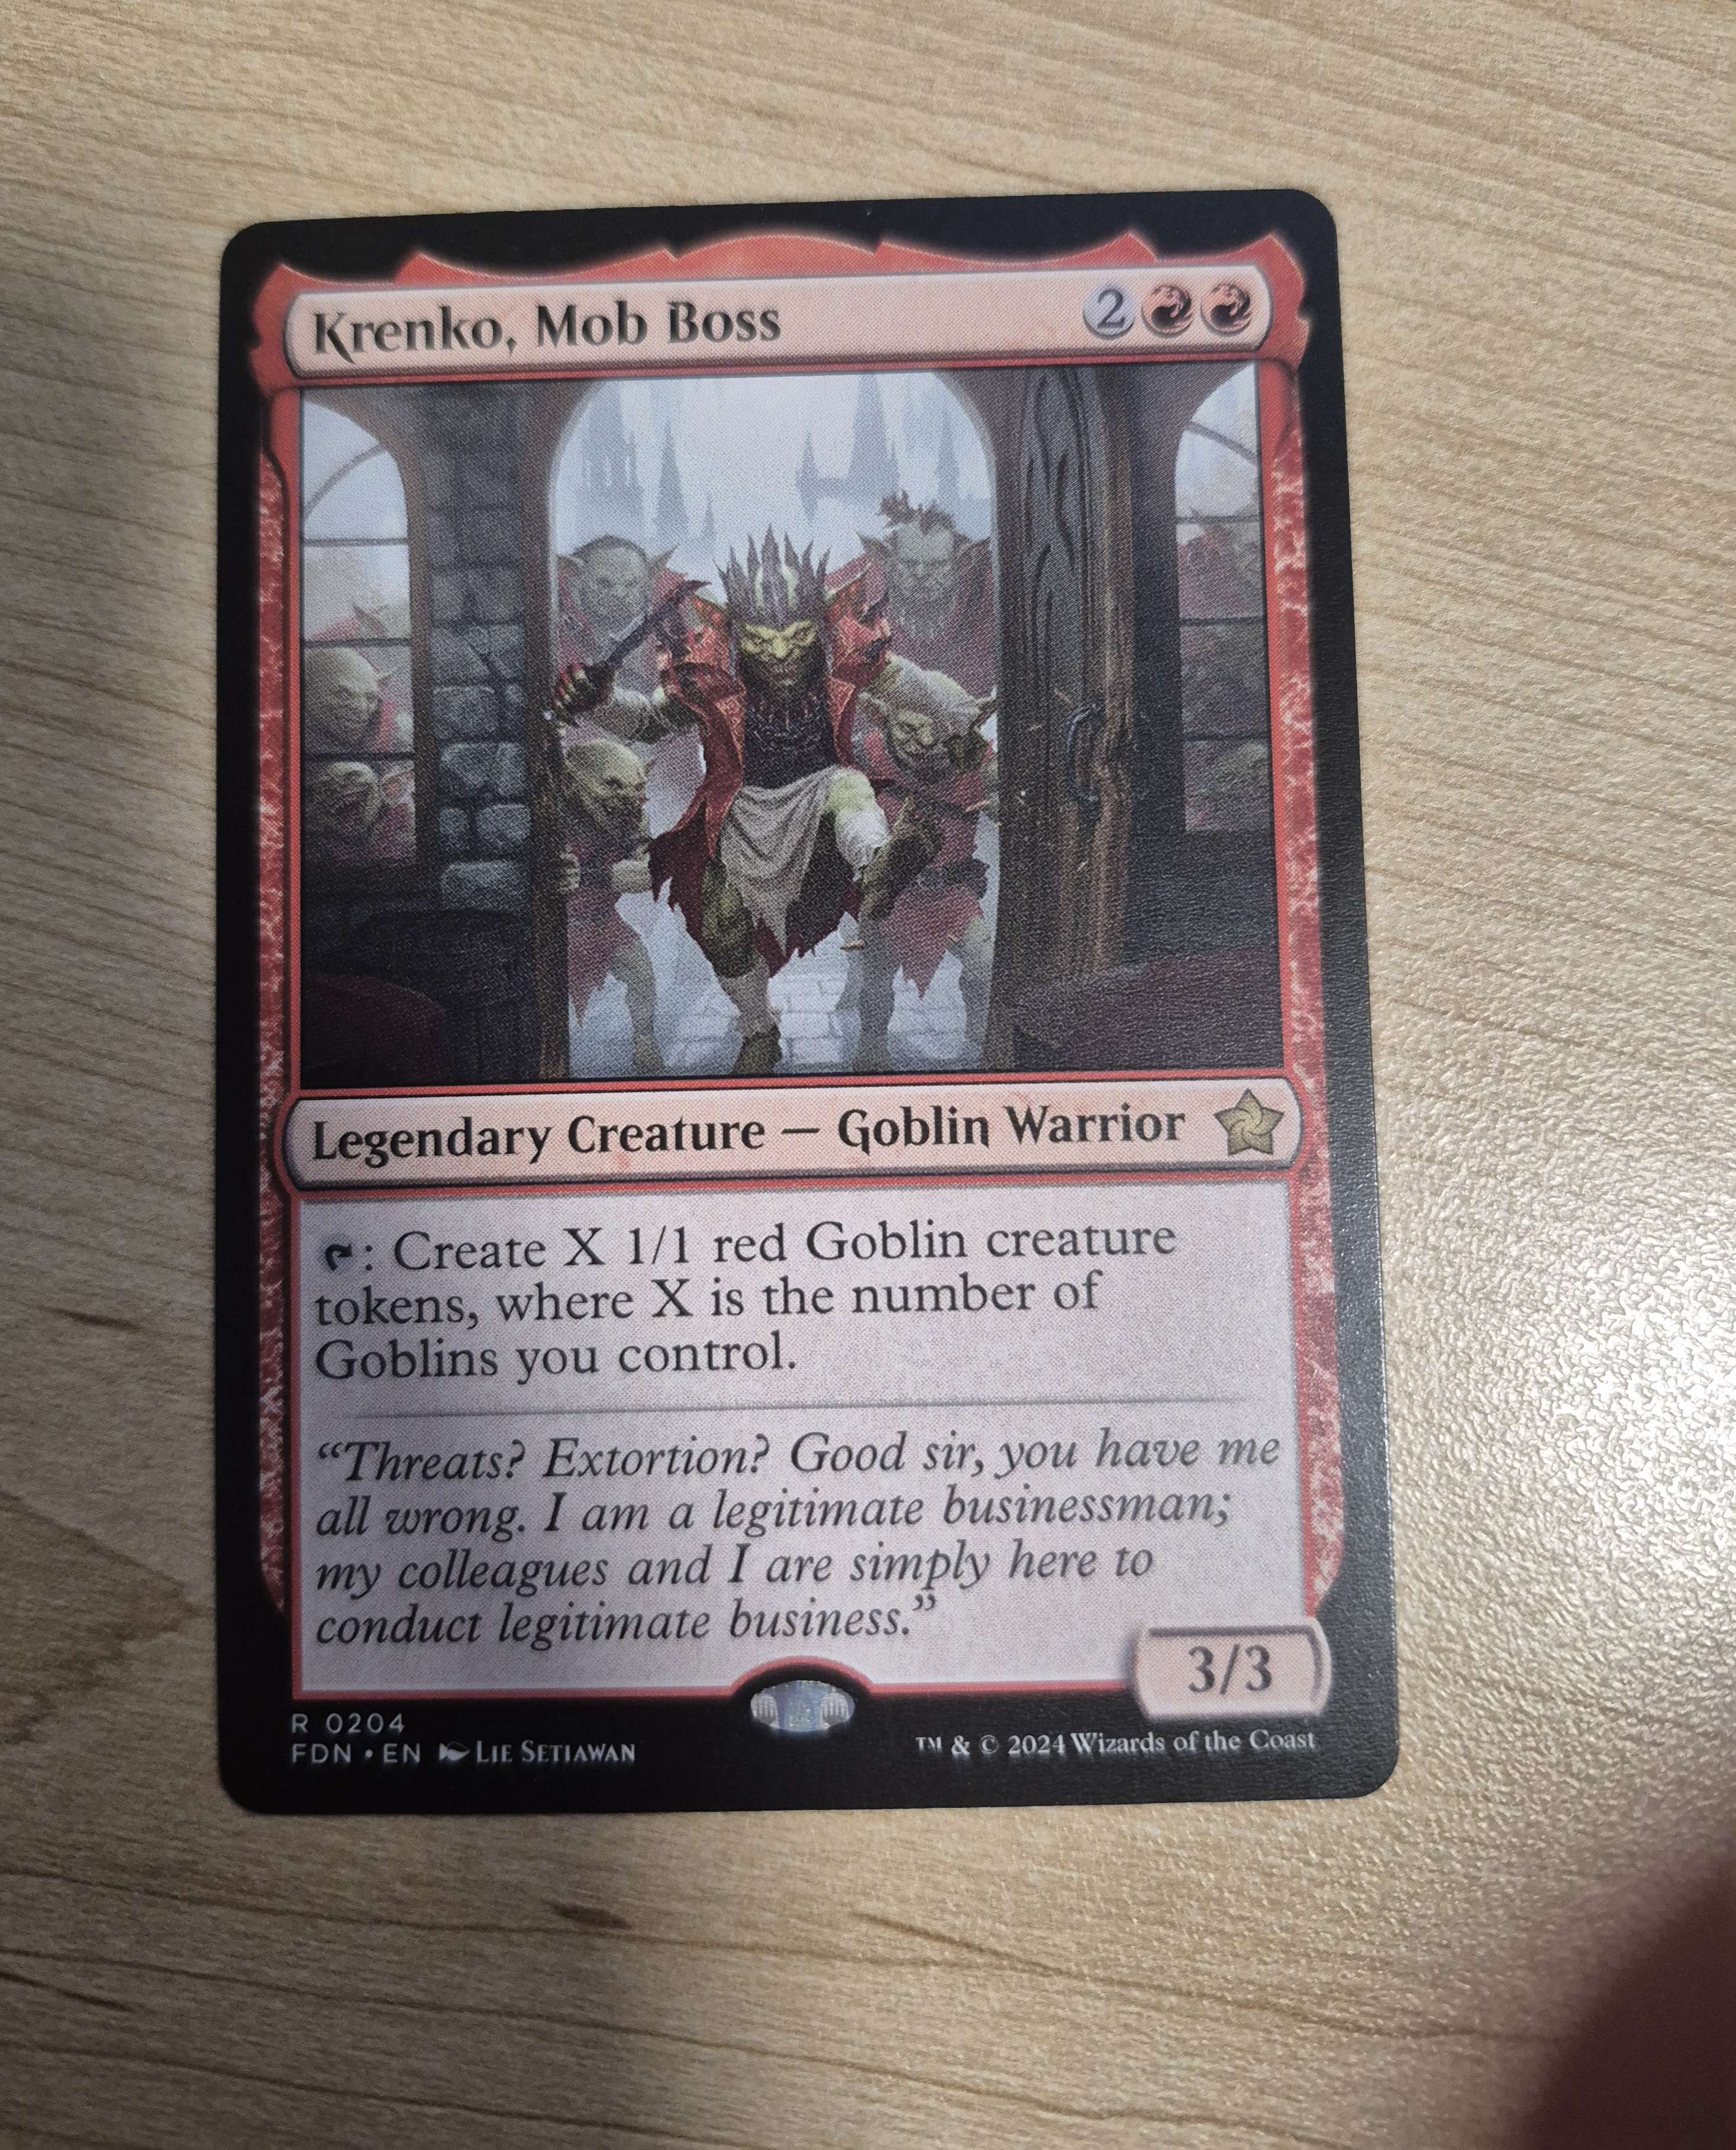mtg_card: (136, 202, 1449, 1837)
